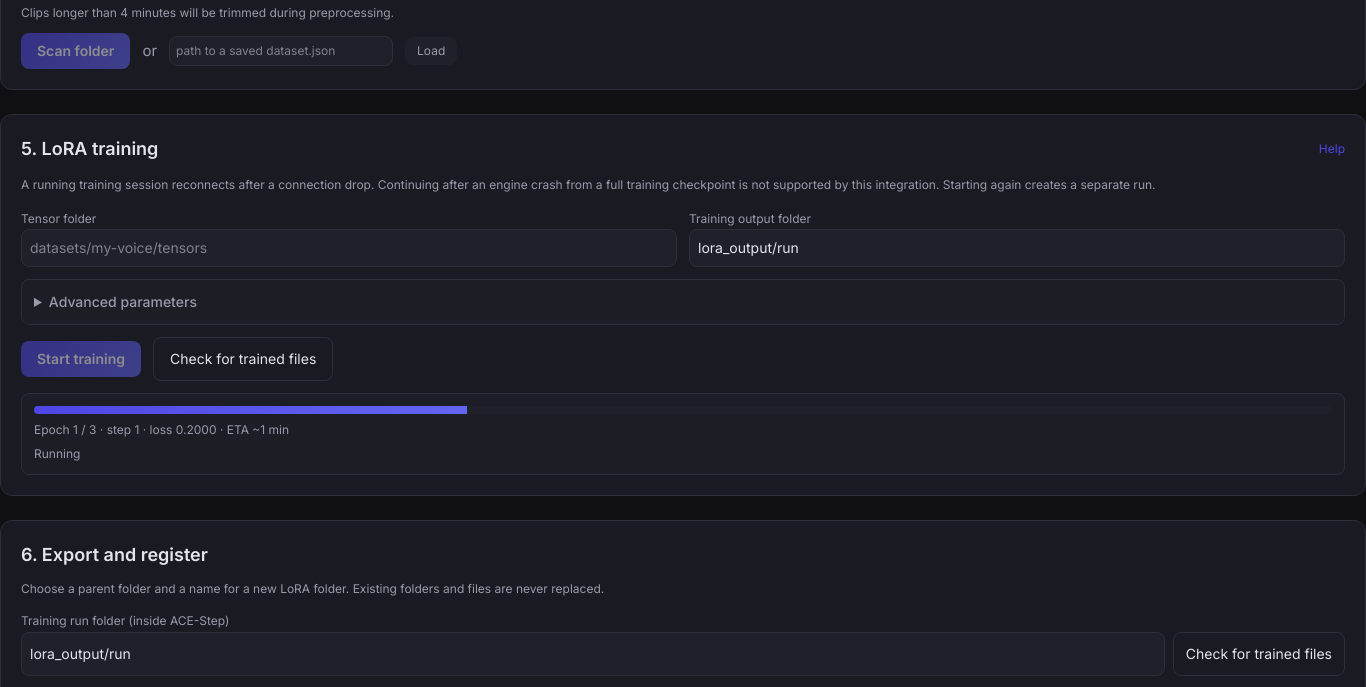
Test case: cancels and ignores old checks when the training folder changes
(page scrolled)
Click the button "Check for trained files" below "Advanced parameters" at {"x": 243, "y": 359}, box [153,337,333,381]
(page scrolled)
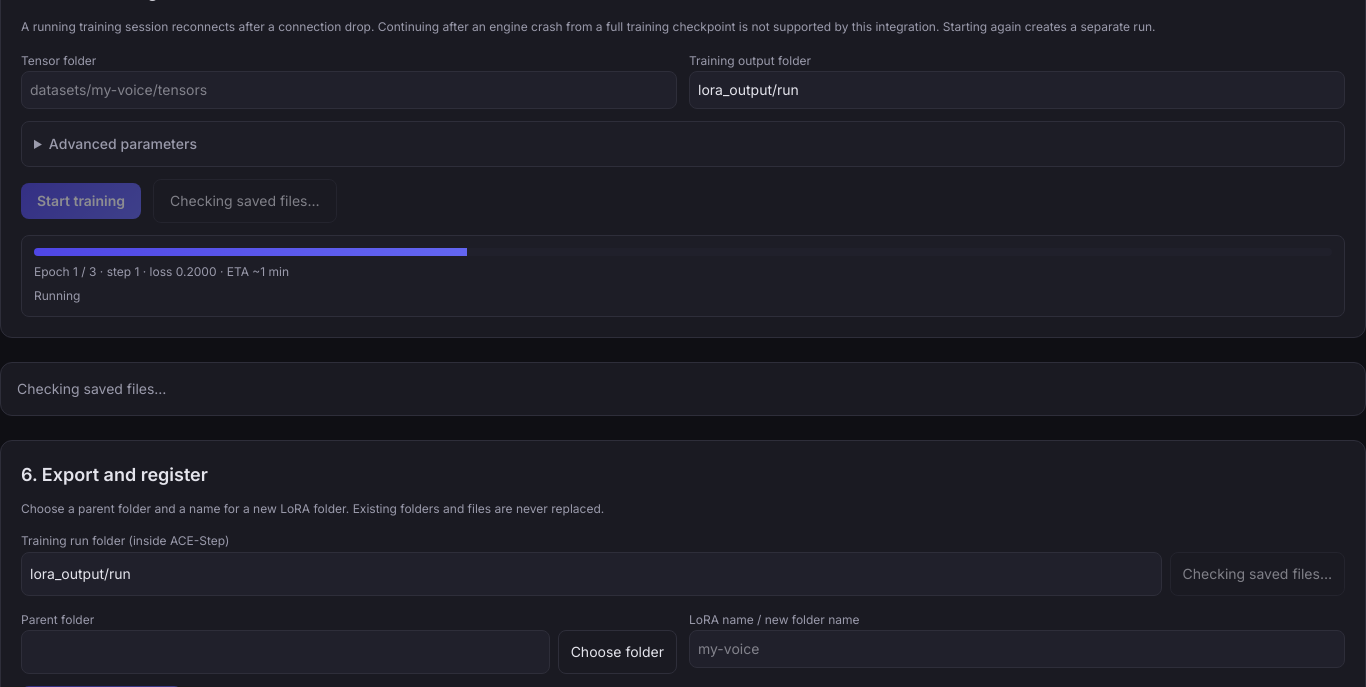
Replace the text in the field named "lora-export-source" with "lora_output/new-run" at {"x": 591, "y": 574}, box [21,552,1162,596]
(page scrolled)
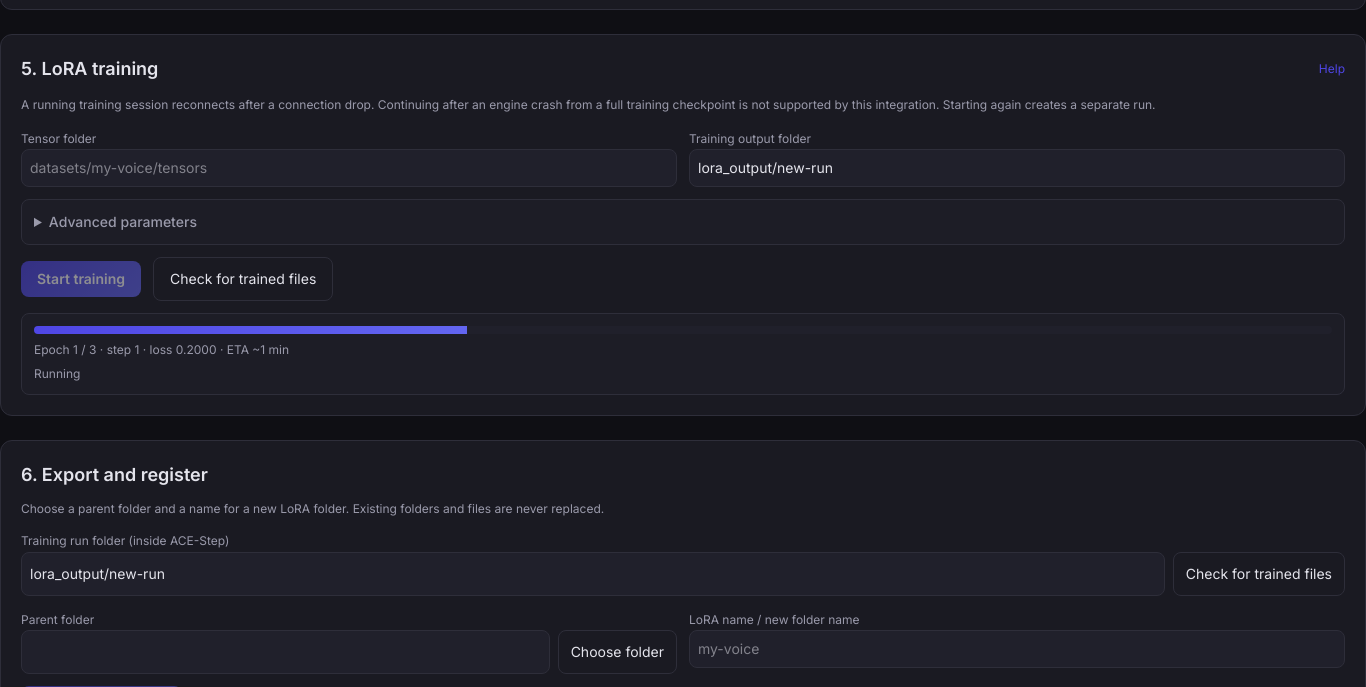
Click the button "Check for trained files" below "Advanced parameters" at {"x": 243, "y": 279}, box [153,257,333,301]
(page scrolled)
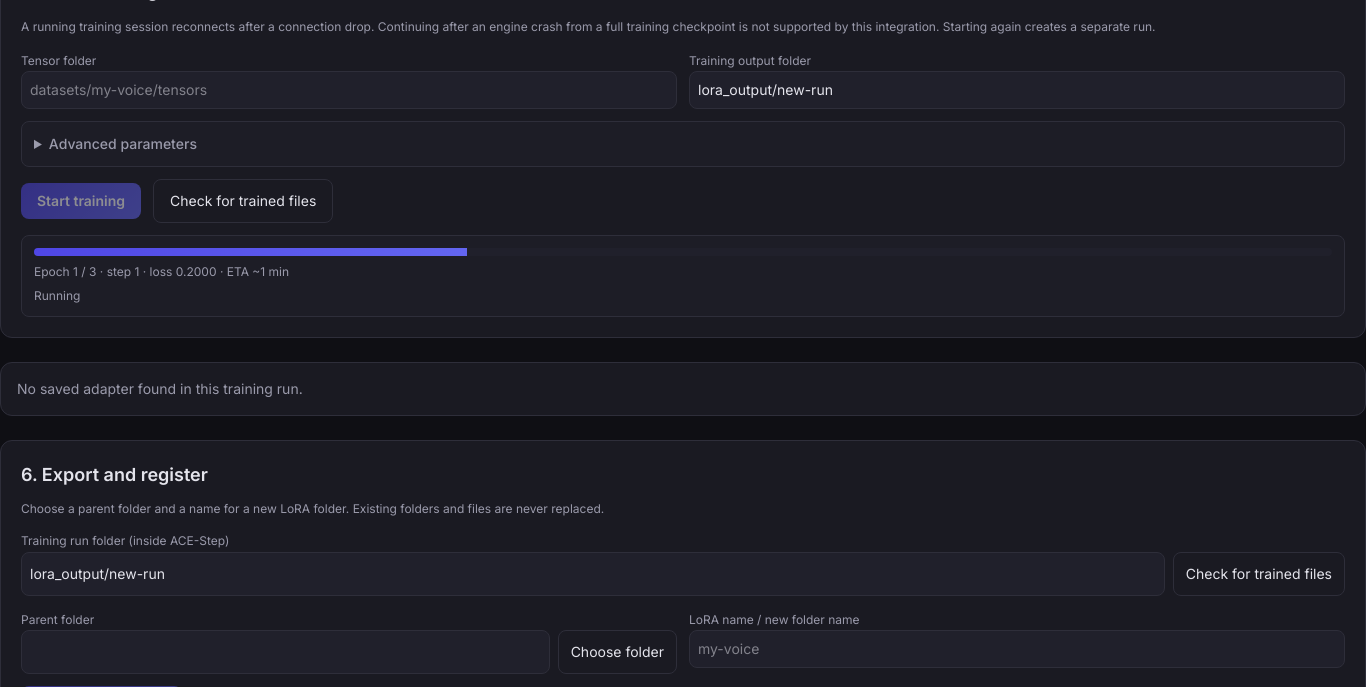
Expected: the element showing "No saved adapter found in this training run." is shown, [17,380,303,397]
